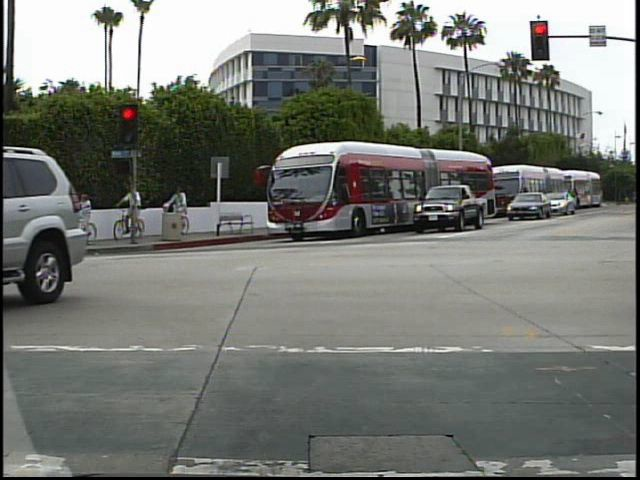person: (168, 183, 196, 239)
